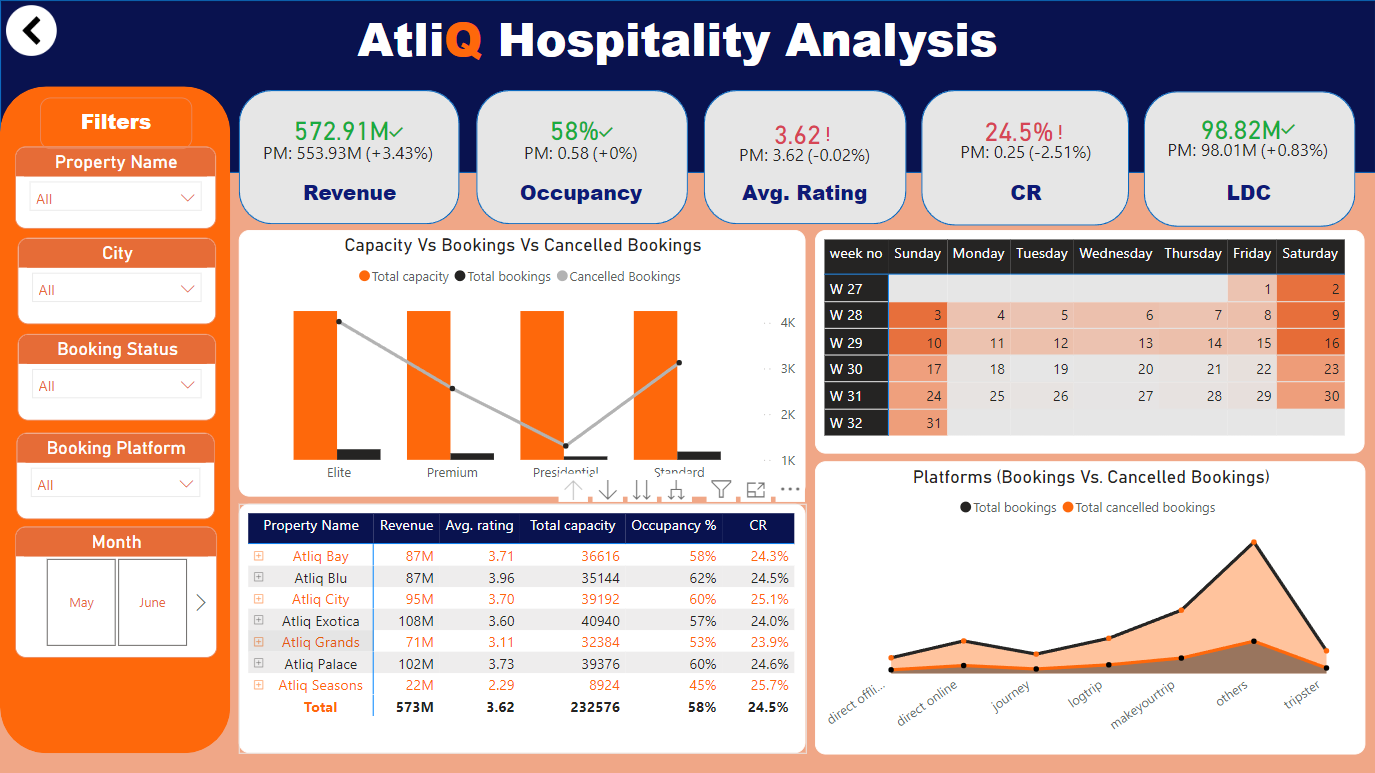

The page's visual inventory and layout, read from the dashboard file:
{"tool":"powerbi","page":{"name":"Overall","canvas":[1280,720],"ordinal":0},"visuals":[{"type":"shape","box":[0,0,1280.2,160.5],"z":0},{"type":"textbox","box":[158.1,0,975.6,80.2],"z":0},{"type":"slicer","title":"Property Name","fields":{"Values":["dim_hotels.property_name"]},"box":[14,136.6,187.1,77.2],"z":0,"group":"g1"},{"type":"textbox","box":[37.3,91,141.9,47.7],"z":1000,"group":"g1"},{"type":"shape","box":[8.1,80.2,201.2,631.4],"z":2000},{"type":"slicer","title":"City","fields":{"Values":["dim_hotels.city"]},"box":[16.5,221.6,184.8,80.6],"z":2000,"group":"g1"},{"type":"shape","box":[222.1,83.7,205.8,125.6],"z":3000},{"type":"slicer","title":"Booking Status","fields":{"Values":["fact_bookings.booking_status"]},"box":[16.5,310.3,184.8,80.6],"z":3000,"group":"g1"},{"type":"shape","box":[445.4,83.7,195.3,125.6],"z":4000},{"type":"slicer","title":"Booking Platform","fields":{"Values":["fact_bookings.booking_platform"]},"box":[15.3,402.5,184.8,80.6],"z":4000,"group":"g1"},{"type":"shape","box":[658.1,83.7,187.2,125.6],"z":5000},{"type":"slicer","title":"Month","fields":{"Values":["dim_date.mmm yy.Variation.Date Hierarchy.Month"]},"box":[15.3,491.1,184.8,80.6],"z":5000,"group":"g1"},{"type":"shape","box":[861.6,80.2,195.3,129.1],"z":6000},{"type":"slicer","title":"Week No.","fields":{"Values":["dim_date.week no"]},"box":[16.5,579.8,184.8,80.6],"z":6000,"group":"g1"},{"type":"shape","box":[1072.1,80.2,191.9,129.1],"z":7000},{"type":"group","id":"g1","title":"Group 3","box":[14,91,187.2,569.4],"z":8000},{"type":"card","fields":{"Values":["Measures Table.revenue"]},"box":[243,91.9,165.1,76.7],"z":9000},{"type":"textbox","box":[232.9,160.9,186.1,40.8],"z":10000},{"type":"donutChart","title":"Occupancy Raio","fields":{"Category":["dim_date.day_type"],"Y":["Measures Table.Occupancy %"]},"box":[1072.7,468.9,193.4,242.1],"z":11000},{"type":"card","fields":{"Values":["Measures Table.Occupancy %"]},"box":[468.6,91.9,150,76.7],"z":12000},{"type":"textbox","box":[459.3,168.6,167.4,40.7],"z":13000},{"type":"textbox","box":[675.6,168.6,153.5,40.7],"z":14000},{"type":"gauge","fields":{"Y":["Measures Table.Avg.rating mod"],"MaxValue":["Measures Table.max.rating"],"MinValue":["Measures Table.min.rating"]},"box":[658.1,83.7,187.2,101.2],"z":15000},{"type":"card","fields":{"Values":["Measures Table.CR"]},"box":[879.1,91.9,159.3,75.6],"z":16000},{"type":"textbox","box":[886,168.6,143,40.7],"z":17000},{"type":"card","fields":{"Values":["Measures Table.LDC"]},"box":[1096.5,84.9,144.2,83.7],"z":18000},{"type":"textbox","box":[1096.5,168.6,144.2,40.7],"z":19000},{"type":"clusteredBarChart","title":"Revenue by City","fields":{"Category":["dim_hotels.city"],"Y":["Measures Table.revenue"]},"box":[222.6,217,214.3,260],"z":20000},{"type":"clusteredBarChart","title":"Occupancy % by City","fields":{"Y":["Measures Table.Occupancy %"],"Category":["dim_hotels.city"]},"box":[445.2,217,203.1,260.2],"z":21000},{"type":"clusteredBarChart","fields":{"Category":["dim_hotels.city"],"Y":["Measures Table.Avg. rating"]},"box":[658.1,217,203.1,260.2],"z":22000},{"type":"areaChart","title":"Weekly Trend (Revenue & Rating)","fields":{"Category":["dim_date.week no"],"Y":["Measures Table.revenue"],"Y2":["Measures Table.Avg. rating"]},"box":[869.8,217.4,402.3,243],"z":23000},{"type":"clusteredBarChart","title":"Bookings by Platform","fields":{"Y":["Measures Table.Total bookings"],"Category":["fact_bookings.booking_platform"]},"box":[869.8,468.6,193,243],"z":24000},{"type":"pivotTable","fields":{"Rows":["dim_hotels.property_name","dim_hotels.city"],"Values":["Measures Table.revenue","Measures Table.Avg. rating","Measures Table.Occupancy %","Measures Table.Total bookings","Measures Table.CR","Measures Table.Total cancelled bookings","Measures Table.Total capacity"]},"box":[222.6,482.8,638.6,228.2],"z":25000},{"type":"image","box":[1219.8,0,60.5,60.5],"z":25001}]}

Visuals, with their boxes in screenshot pixels (x1, y1, x2, y2), scaled from the page's 1280x720 canvas onto the 1375x773 screenshot:
shape: (left=0, top=0, right=1374, bottom=172)
textbox: (left=170, top=0, right=1218, bottom=86)
"Property Name" slicer: (left=15, top=147, right=216, bottom=230)
textbox: (left=40, top=98, right=192, bottom=149)
shape: (left=9, top=86, right=225, bottom=764)
"City" slicer: (left=18, top=238, right=216, bottom=324)
shape: (left=239, top=90, right=460, bottom=225)
"Booking Status" slicer: (left=18, top=333, right=216, bottom=420)
shape: (left=478, top=90, right=688, bottom=225)
"Booking Platform" slicer: (left=16, top=432, right=215, bottom=519)
shape: (left=707, top=90, right=908, bottom=225)
"Month" slicer: (left=16, top=527, right=215, bottom=614)
shape: (left=926, top=86, right=1135, bottom=225)
"Week No." slicer: (left=18, top=622, right=216, bottom=709)
shape: (left=1152, top=86, right=1358, bottom=225)
"Group 3" group: (left=15, top=98, right=216, bottom=709)
card - Measures Table.revenue: (left=261, top=99, right=438, bottom=181)
textbox: (left=250, top=173, right=450, bottom=217)
"Occupancy Raio" donutChart: (left=1152, top=503, right=1360, bottom=763)
card - Measures Table.Occupancy %: (left=503, top=99, right=665, bottom=181)
textbox: (left=493, top=181, right=673, bottom=225)
textbox: (left=726, top=181, right=891, bottom=225)
gauge - Measures Table.Avg.rating mod x Measures Table.max.rating: (left=707, top=90, right=908, bottom=199)
card - Measures Table.CR: (left=944, top=99, right=1115, bottom=180)
textbox: (left=952, top=181, right=1105, bottom=225)
card - Measures Table.LDC: (left=1178, top=91, right=1333, bottom=181)
textbox: (left=1178, top=181, right=1333, bottom=225)
"Revenue by City" clusteredBarChart: (left=239, top=233, right=469, bottom=512)
"Occupancy % by City" clusteredBarChart: (left=478, top=233, right=696, bottom=512)
clusteredBarChart - dim_hotels.city x Measures Table.Avg. rating: (left=707, top=233, right=925, bottom=512)
"Weekly Trend (Revenue & Rating)" areaChart: (left=934, top=233, right=1367, bottom=494)
"Bookings by Platform" clusteredBarChart: (left=934, top=503, right=1142, bottom=764)
pivotTable - dim_hotels.property_name x dim_hotels.city: (left=239, top=518, right=925, bottom=763)
image: (left=1310, top=0, right=1374, bottom=65)
